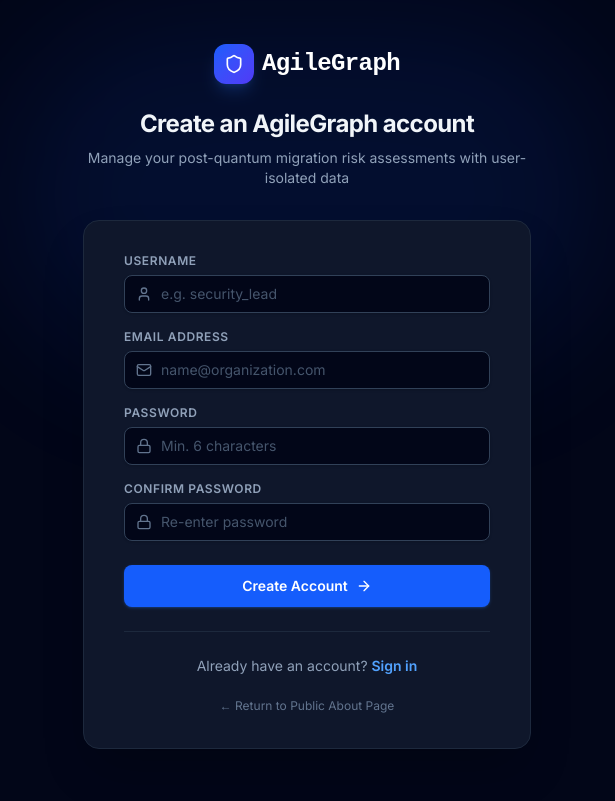
Scenario: Authentication & Authorization UI Tests › validates registration form password matching and minimum length
Expected: the heading "Create an AgileGraph account" is shown, x1=140 y1=108 x2=474 y2=138
Mismatched passwords
In the field with placeholder "e.g. security_lead": [307, 294] box x1=124 y1=274 x2=490 y2=312, type "bob_researcher"
In the field with placeholder "name@organization.com": [307, 370] box x1=124 y1=350 x2=490 y2=388, type "bob@example.edu"
In the password field with placeholder "Min. 6 characters": [307, 446] box x1=124 y1=426 x2=490 y2=464, type "passwordA"
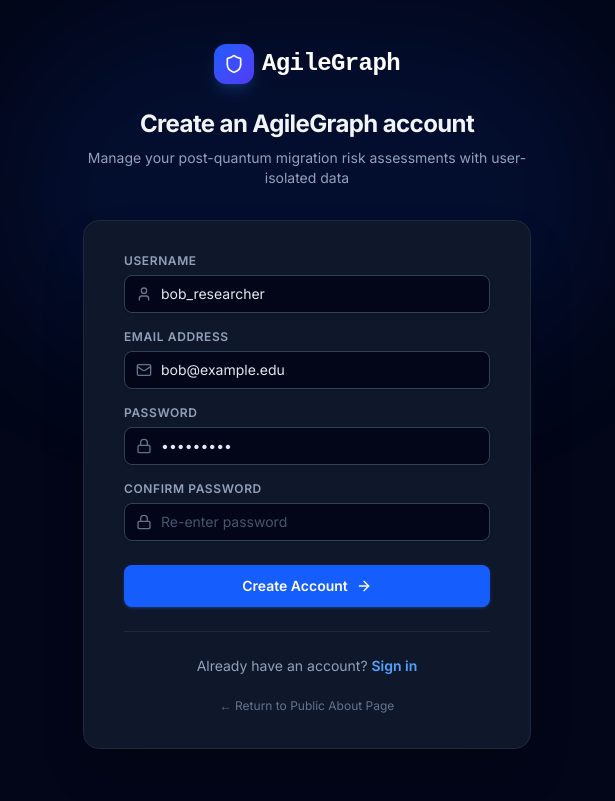
In the password field with placeholder "Re-enter password": [307, 522] box x1=124 y1=502 x2=490 y2=540, type "passwordB"
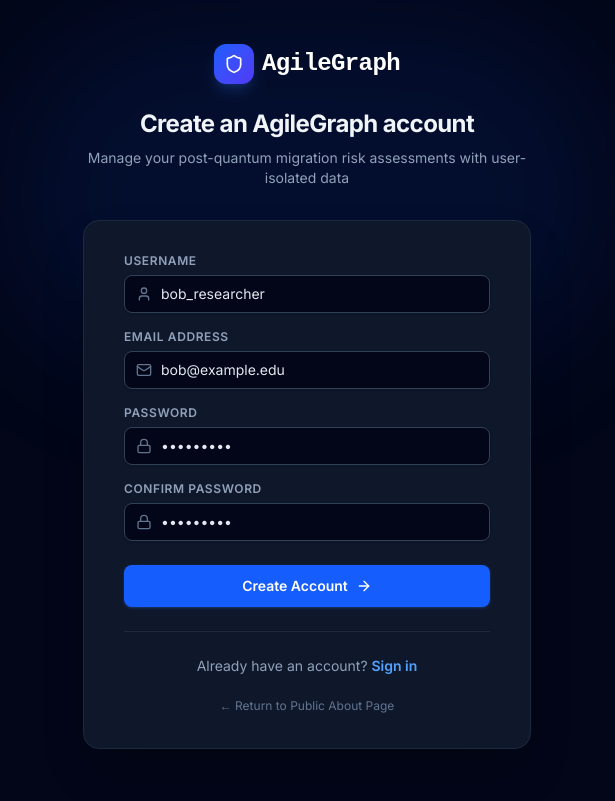
Click the button "Create Account": [307, 586] box x1=124 y1=564 x2=490 y2=606
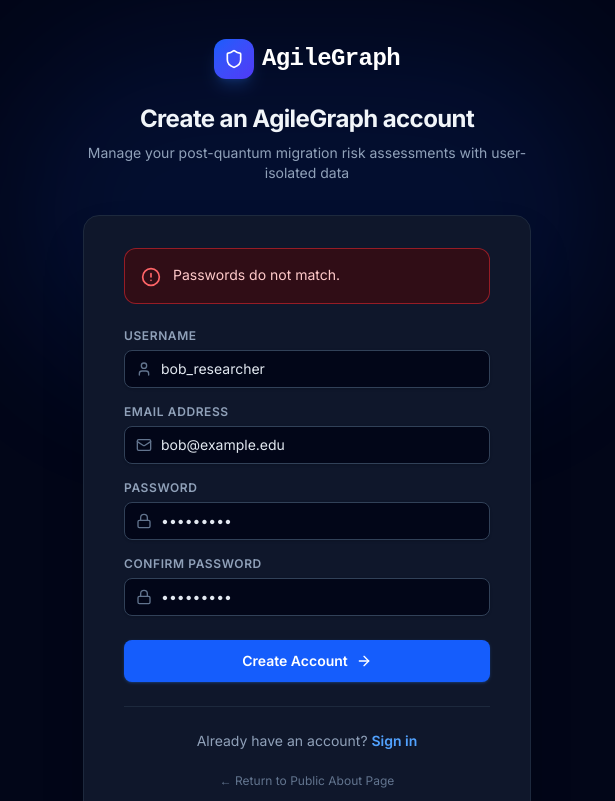
Result: the text "Passwords do not match." is shown at x1=173 y1=265 x2=340 y2=285
Short password
In the 1st password field with placeholder "Min. 6 characters": [307, 521] box x1=124 y1=502 x2=490 y2=540, type "123"
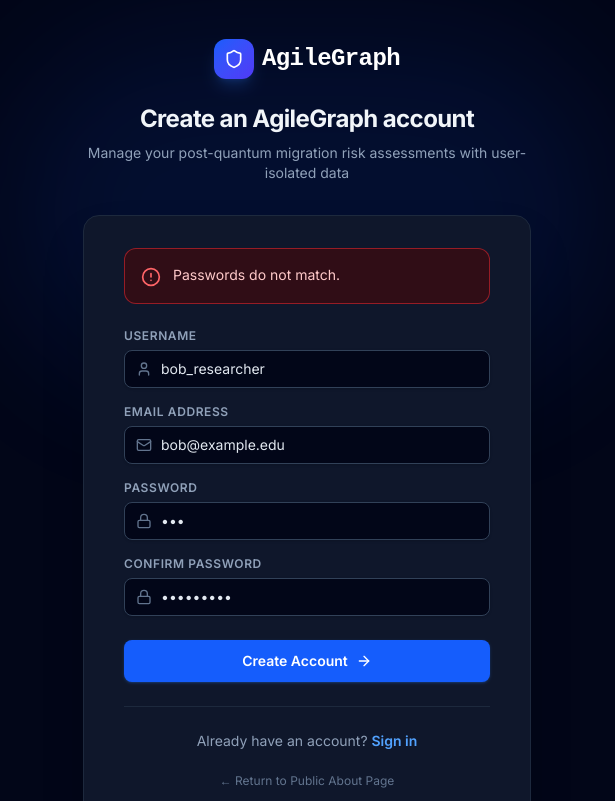
In the password field with placeholder "Re-enter password" below "Confirm Password": [307, 597] box x1=124 y1=578 x2=490 y2=616, type "123"
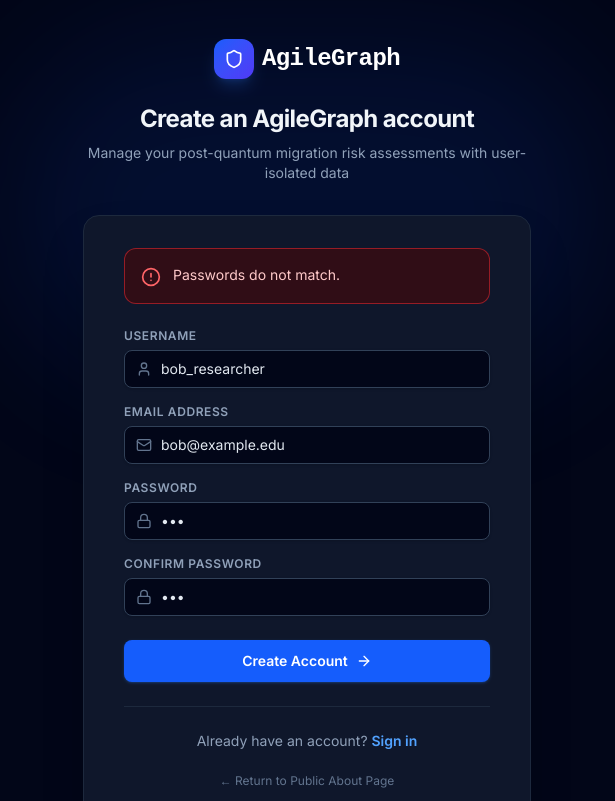
Click the button "Create Account": [307, 661] box x1=124 y1=640 x2=490 y2=682
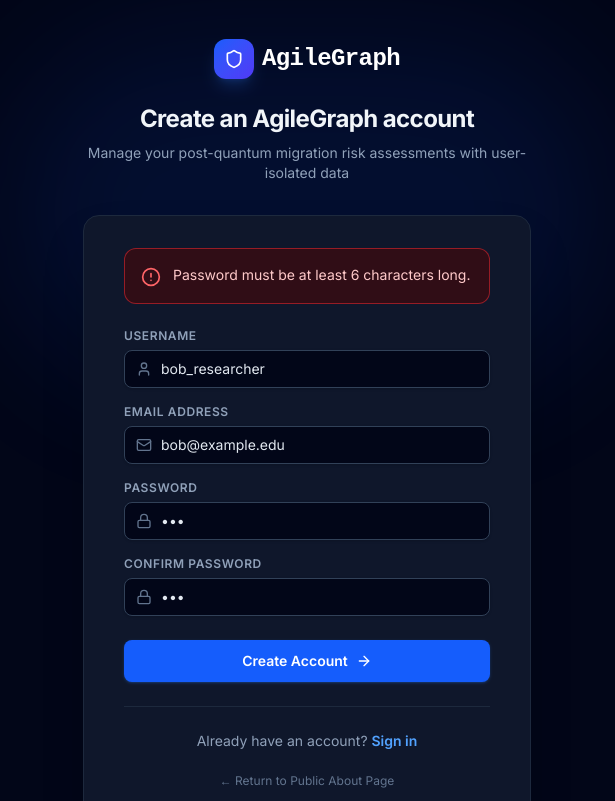
Result: the text "Password must be at least 6 characters long." is shown at x1=173 y1=265 x2=470 y2=285
